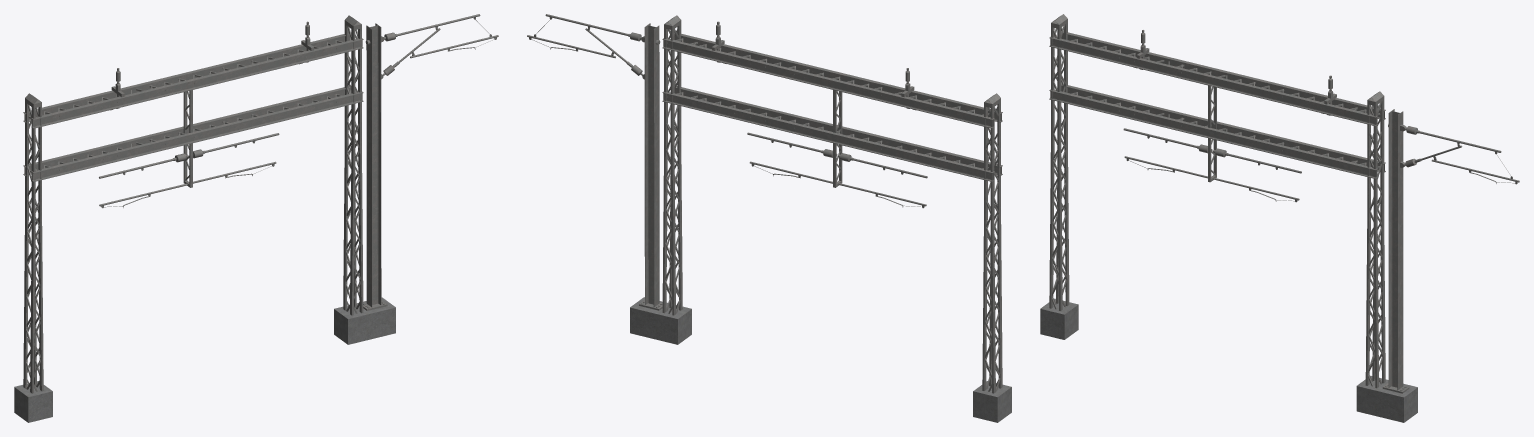
The model's file is Gantry-B.fbx.
The picture shows the model from 3 angles, left to right: view 1: azimuth 30°, elevation 25°; view 2: azimuth 150°, elevation 25°; view 3: azimuth 330°, elevation 25°; orthographic projection.
Visible parts, largest first — view 1: Gantry-B; view 2: Gantry-B; view 3: Gantry-B.
Part boxes in pixels (box(x1,y1,x2,y2)): Gantry-B: box(14, 14, 498, 422); Gantry-B: box(527, 14, 1011, 422); Gantry-B: box(1040, 14, 1519, 422).
Bounding box in the file's own units: 15.52 × 10.13 × 0.8.
